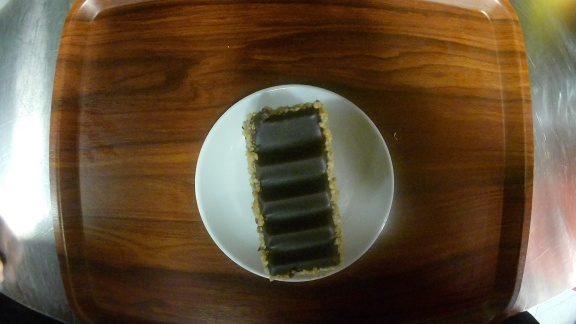muzlupasta: (194, 85, 396, 283)
